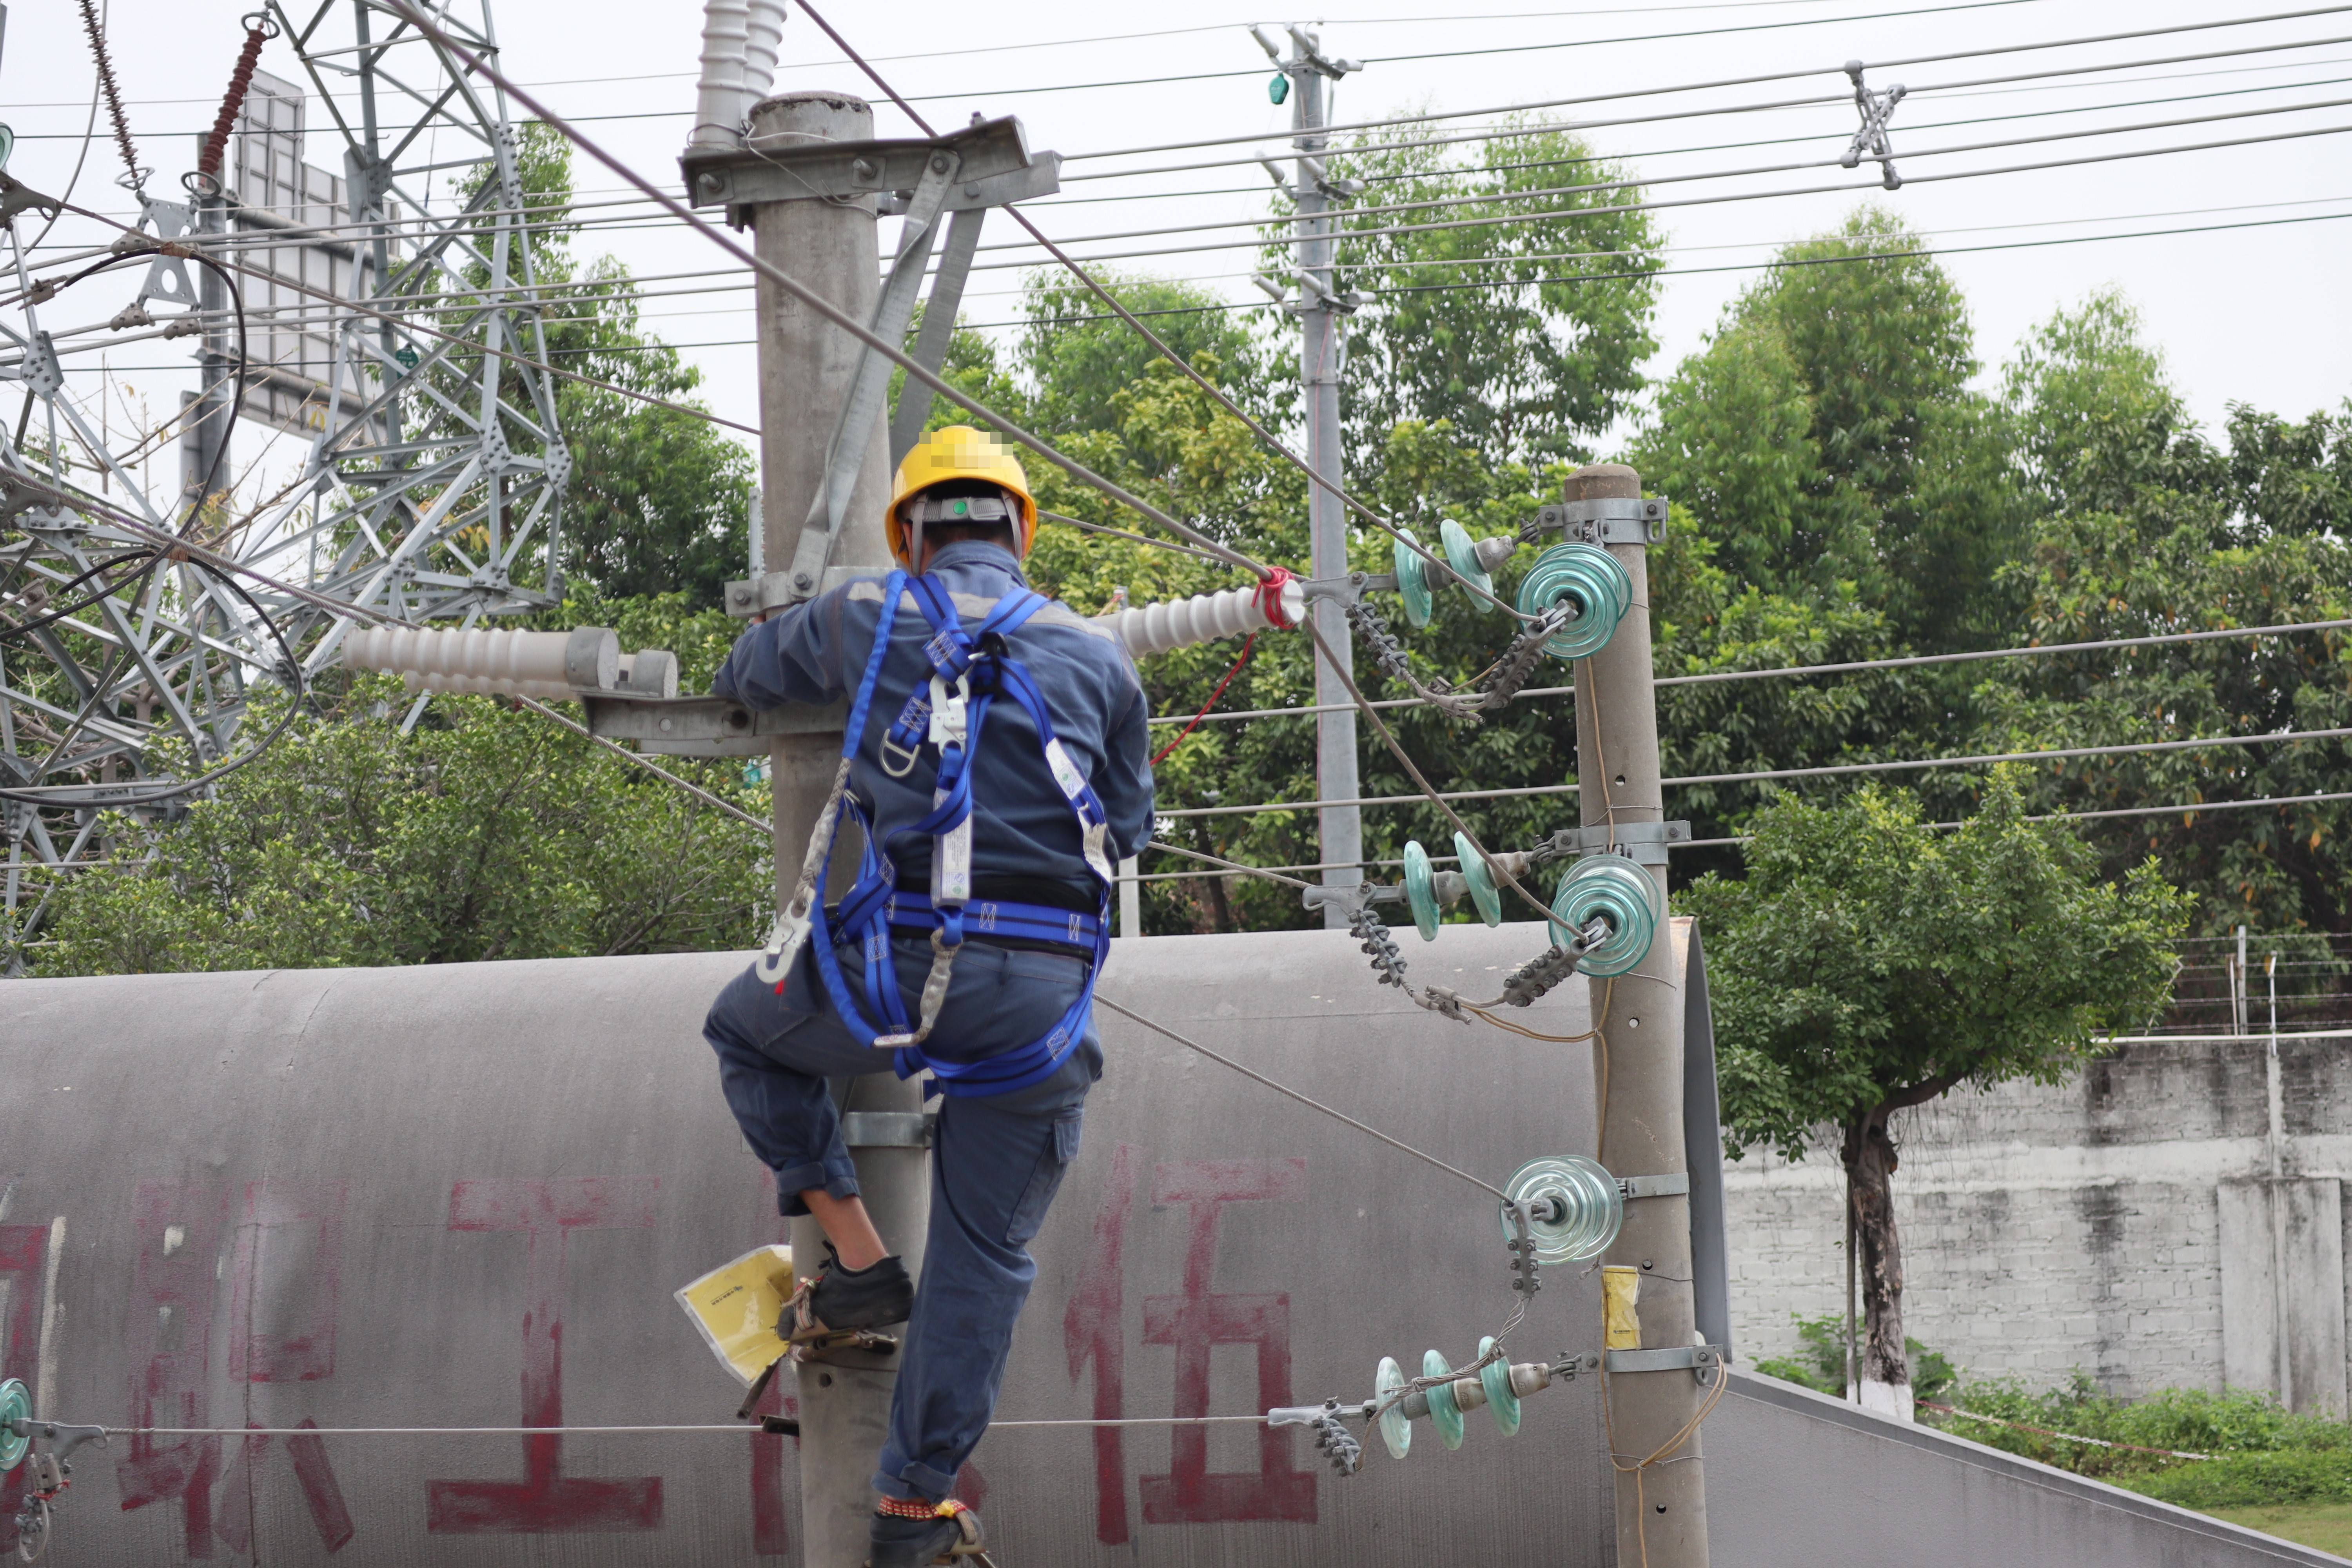downsuit: (705, 922, 1101, 1494)
upsuit: (710, 549, 1150, 922)
